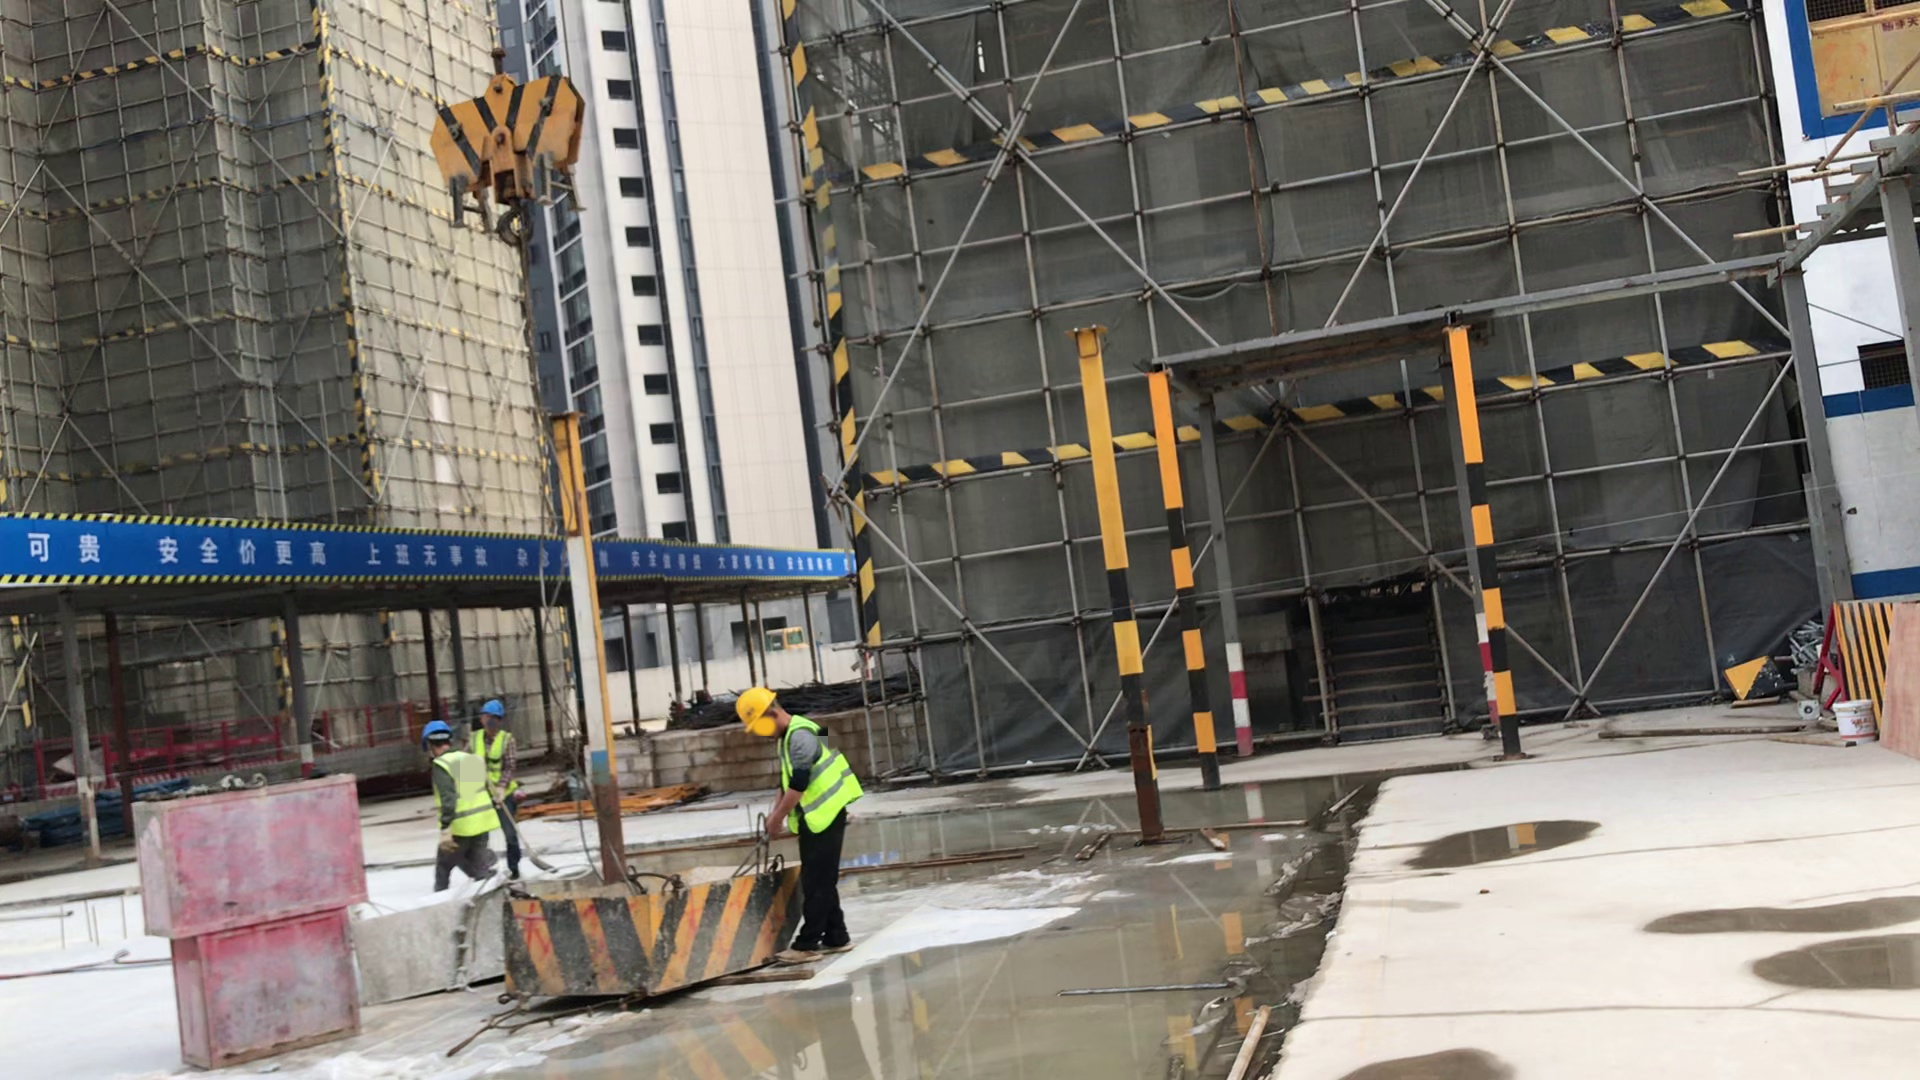fence: (19, 702, 458, 786)
helmet: (726, 672, 777, 732), (408, 706, 473, 741), (477, 693, 506, 715)
hook: (422, 42, 593, 234)
hopper: (481, 849, 818, 1004), (341, 869, 528, 1008)
person: (718, 693, 873, 967), (400, 711, 504, 904), (464, 686, 526, 853)
slogan: (12, 502, 856, 594)
vest: (778, 719, 847, 846), (418, 748, 501, 846), (464, 727, 504, 800)
